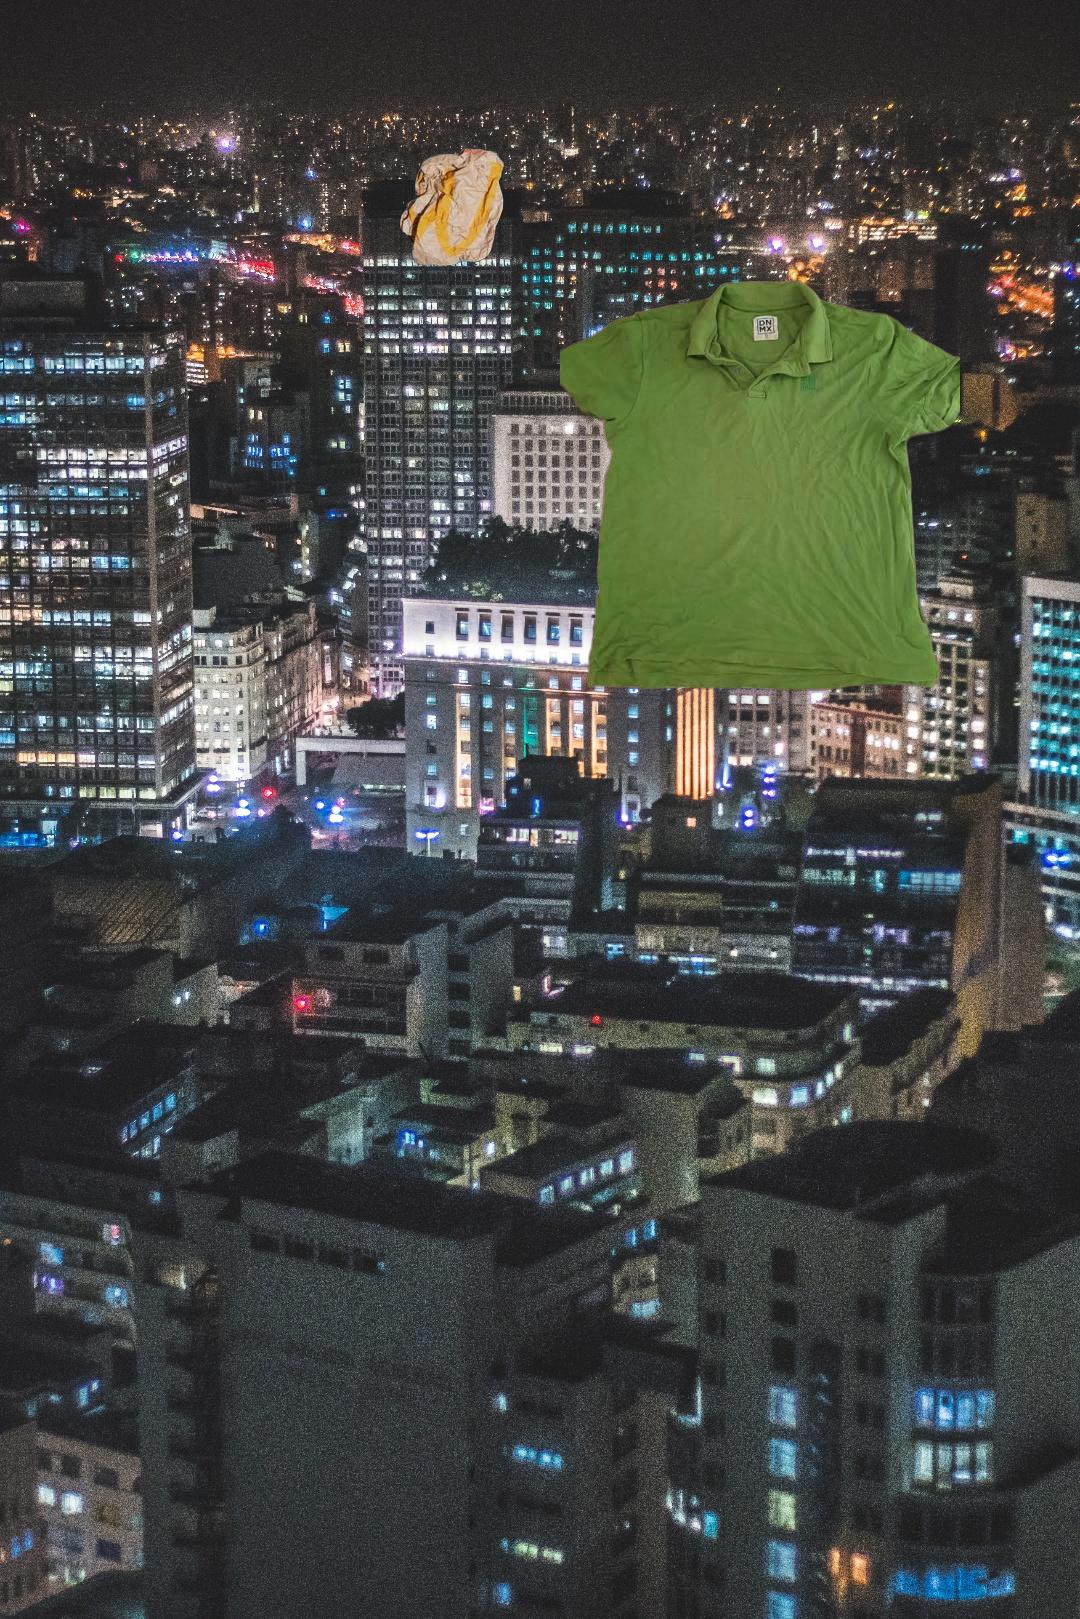clothes: (560, 276, 959, 696)
paper-bag: (399, 145, 506, 269)
trashbox-cardboard: (840, 1308, 1080, 1619)
